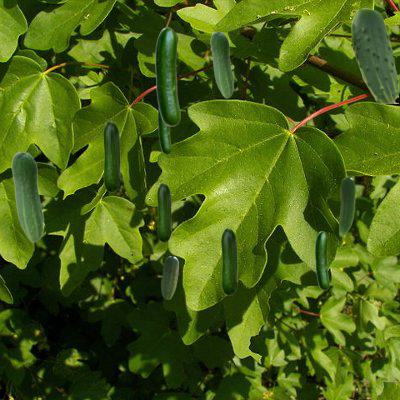cucumber: (351, 8, 397, 102), (11, 151, 43, 241), (155, 27, 179, 125), (210, 31, 233, 97), (103, 121, 119, 191), (221, 228, 236, 294), (339, 177, 354, 235), (315, 231, 328, 289), (157, 183, 170, 241), (161, 256, 177, 298), (158, 110, 170, 153)
